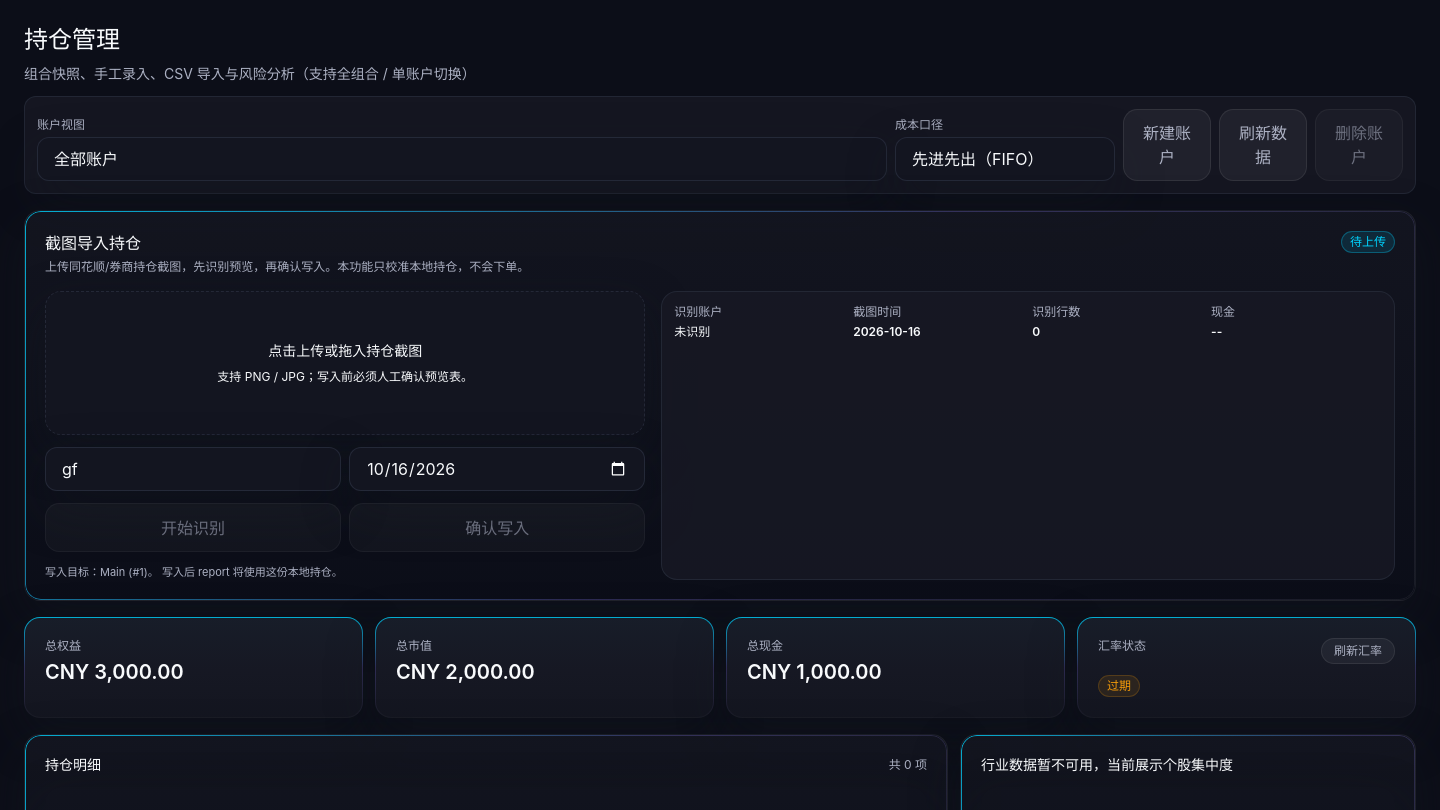
Test: PortfolioPage FX refresh › does not keep success feedback when snapshot reload fails after FX refresh succeeds
Click the button "刷新汇率". click: (1358, 651)
box: [1321, 638, 1395, 664]
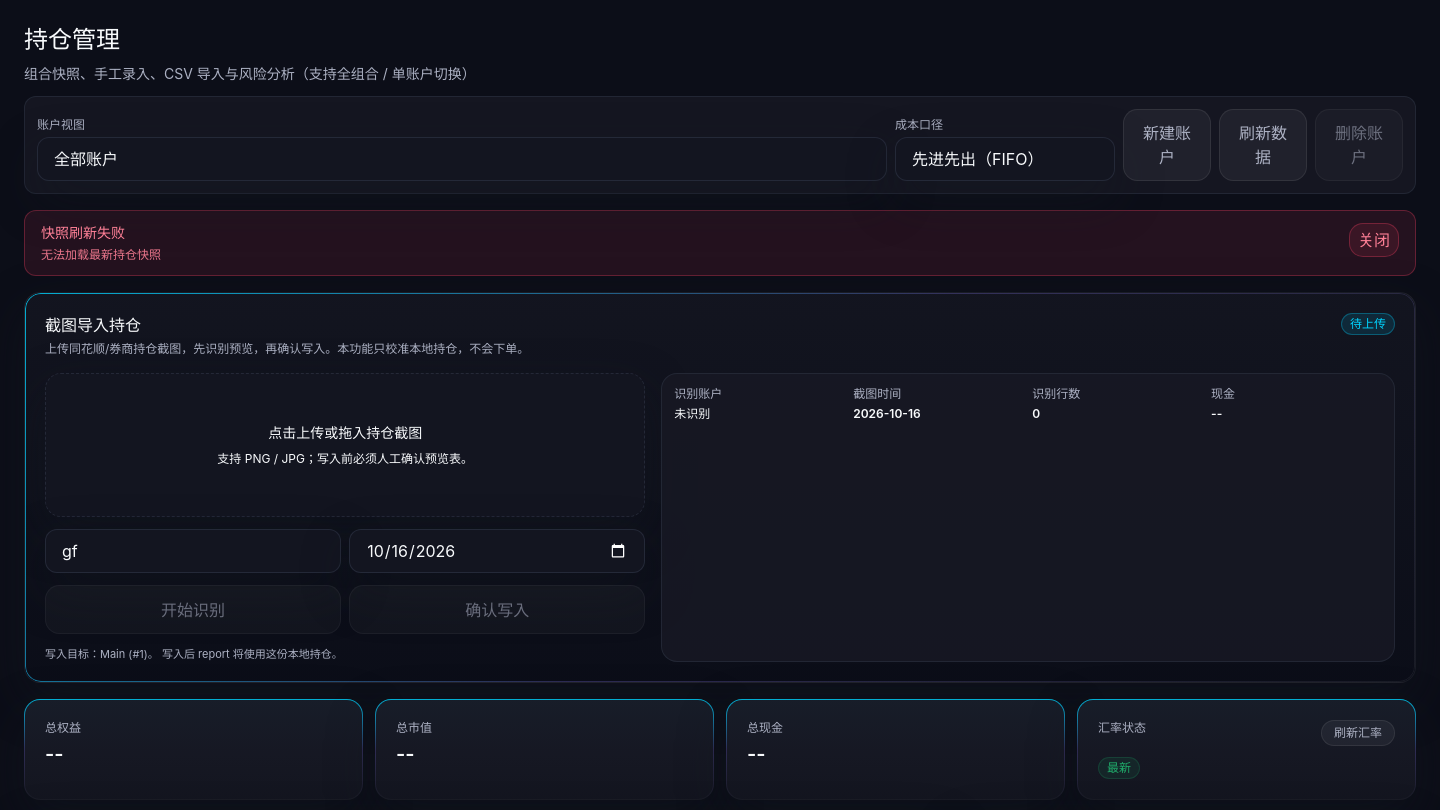
Check: the button "刷新汇率" is enabled, box [1321, 720, 1395, 746]
Check: the text "快照刷新失败" shows "无法加载最新持仓快照", box [41, 247, 161, 262]
